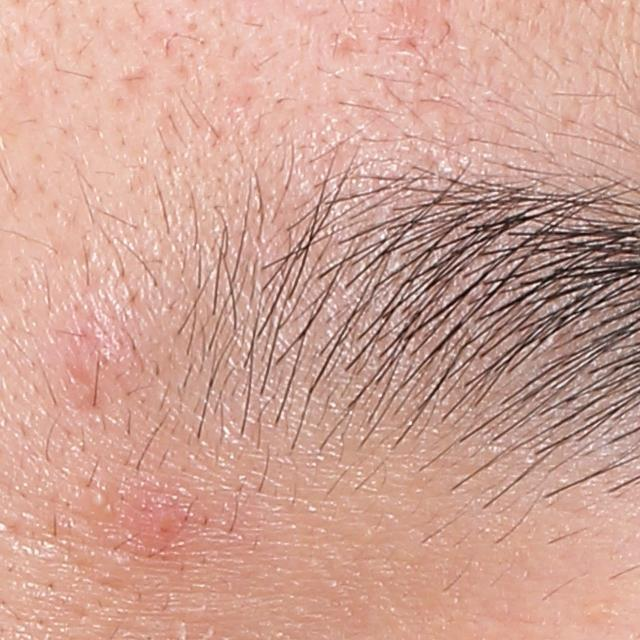atrophic_scar: (328, 28, 370, 70), (119, 58, 157, 96)
